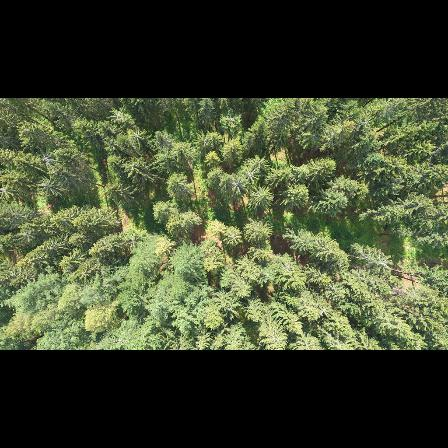Sick: (35, 172, 62, 197), (35, 147, 63, 171)
